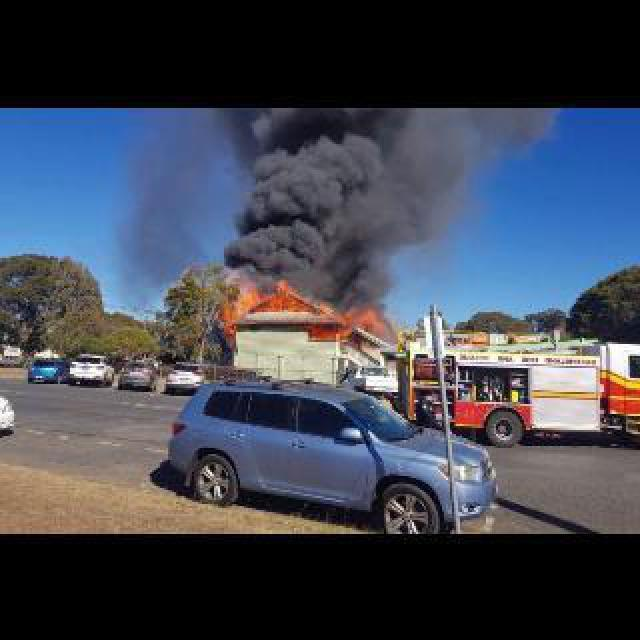Fire: (224, 270, 386, 348)
Smoke: (226, 112, 480, 266)
